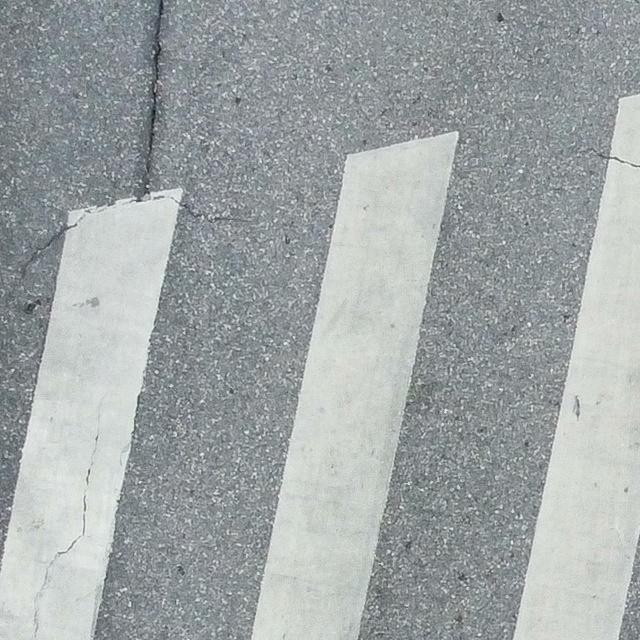LongitudinalCrack: (141, 1, 166, 204)
